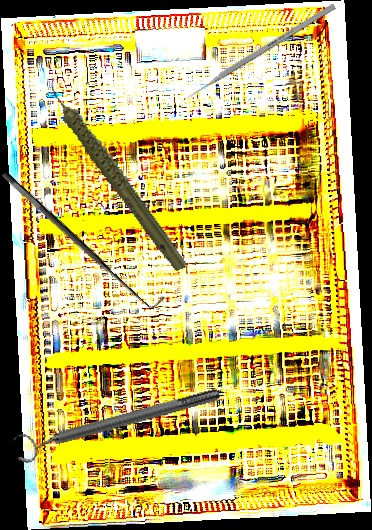Fixation Ring: (11, 379, 224, 466)
Handpiece: (45, 57, 190, 290)
Hook Surgical: (0, 159, 167, 318)
Pusher: (178, 2, 337, 105)
